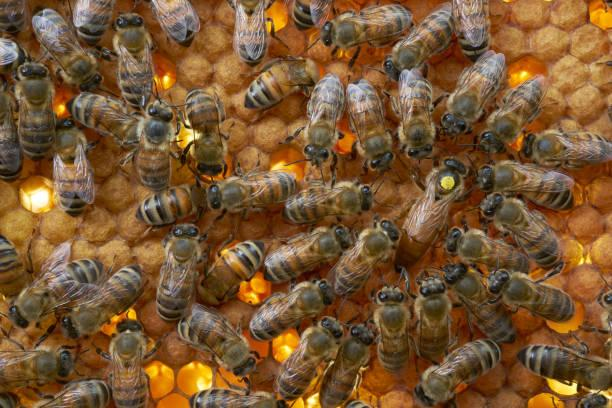Queen-Bee: (396, 156, 469, 267)
worker-bee: (8, 242, 109, 328), (433, 260, 515, 342), (285, 73, 344, 178), (480, 193, 561, 269), (60, 264, 142, 338), (176, 303, 258, 376), (274, 316, 343, 400), (328, 216, 400, 296), (32, 8, 102, 90), (320, 4, 412, 66), (96, 319, 160, 407), (440, 50, 505, 136), (383, 2, 454, 80), (478, 75, 547, 152), (249, 279, 334, 340), (264, 224, 352, 282), (123, 99, 179, 190), (156, 223, 205, 321), (476, 160, 573, 209), (486, 268, 574, 321), (346, 79, 394, 171), (207, 170, 296, 216), (181, 88, 228, 175), (14, 61, 55, 160), (53, 118, 94, 216), (112, 13, 154, 108), (392, 68, 436, 158), (445, 227, 529, 273), (283, 181, 374, 223), (414, 272, 455, 361), (371, 284, 412, 371), (521, 129, 611, 168)
